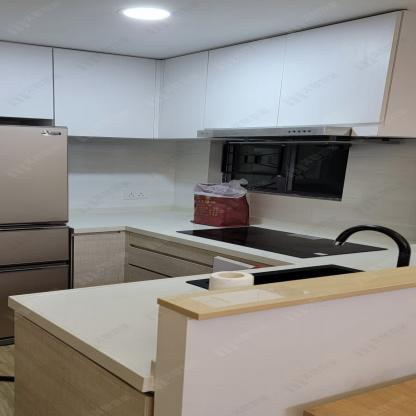Exhaust Hood: (197, 126, 351, 144)
Faucet: (333, 223, 412, 266)
Fridge: (0, 124, 72, 295)
Stove: (173, 225, 388, 260)
